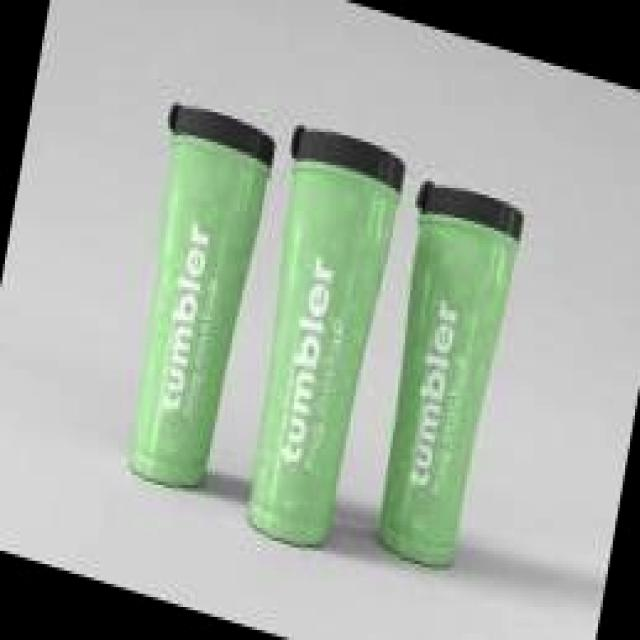bottle: (217, 111, 408, 569), (99, 89, 284, 508), (351, 168, 531, 587)
